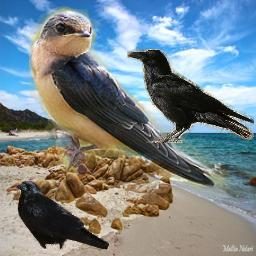Crow: (127, 49, 254, 143), (14, 180, 109, 250)
Swallow: (29, 0, 235, 197)
